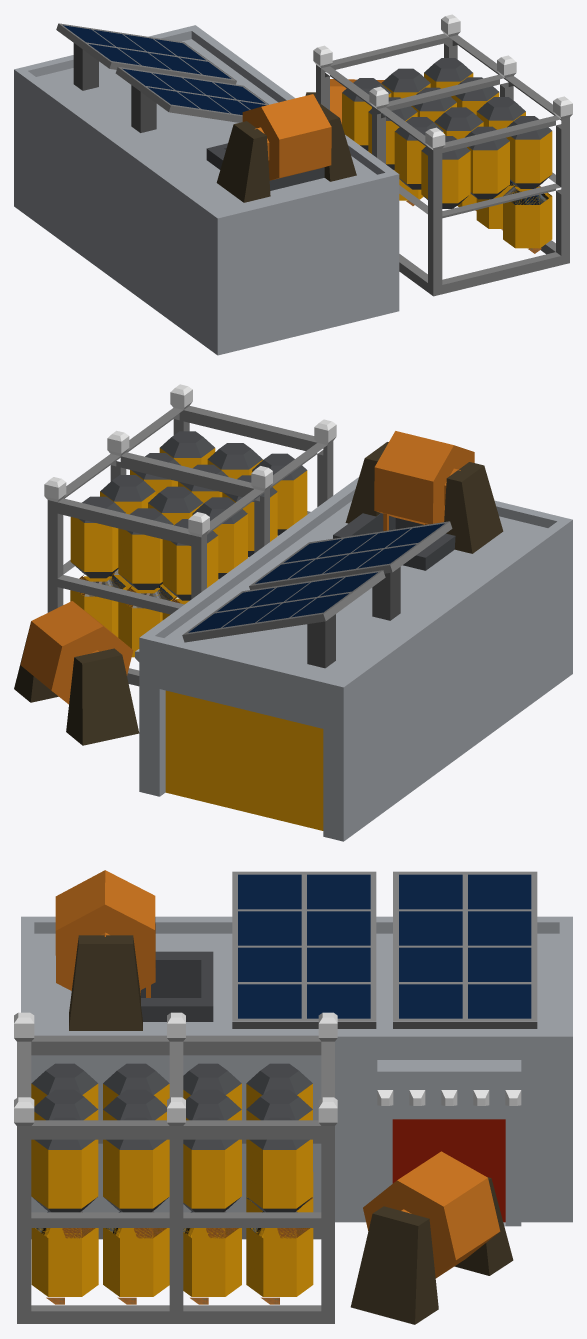
File: BatteryFactory.fbx
3 renders of one model, top to bottom at view 1: azimuth 30°, elevation 25°; view 2: azimuth 150°, elevation 25°; view 3: azimuth 270°, elevation 25°, orthographic. The views are drawn at different scales.
Parts seen in each view (by area): view 1: base, cylinder, glow.004; view 2: base, cylinder, glow.004; view 3: base, cylinder, glow.004.
Boxes of the visible parts, box(x1,y1,x2,y2) form: base: box(14, 23, 569, 355); cylinder: box(242, 94, 331, 180); glow.004: box(313, 14, 572, 150); base: box(14, 405, 572, 841); cylinder: box(374, 431, 474, 524); glow.004: box(44, 384, 336, 661); base: box(17, 871, 572, 1324); cylinder: box(55, 870, 155, 990); glow.004: box(14, 1012, 521, 1125).
Bounding box in the file's own units: 382 × 215 × 387.
